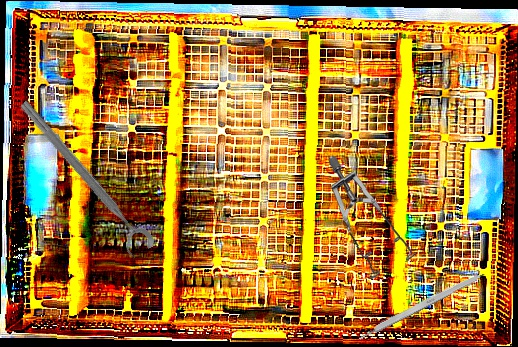Fixation Ring: (7, 96, 158, 263)
Scalpel Handle: (354, 269, 487, 342)
Speculum: (322, 154, 422, 282)
